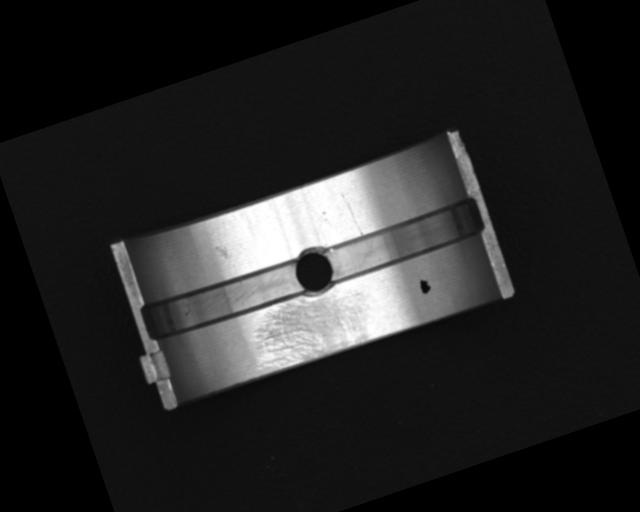blot: (416, 276, 433, 296)
bruise: (212, 241, 231, 261)
gap: (137, 254, 309, 346), (320, 196, 487, 286)
hole: (287, 239, 341, 302)
nick: (344, 199, 363, 238)
scratch: (241, 276, 380, 377)
